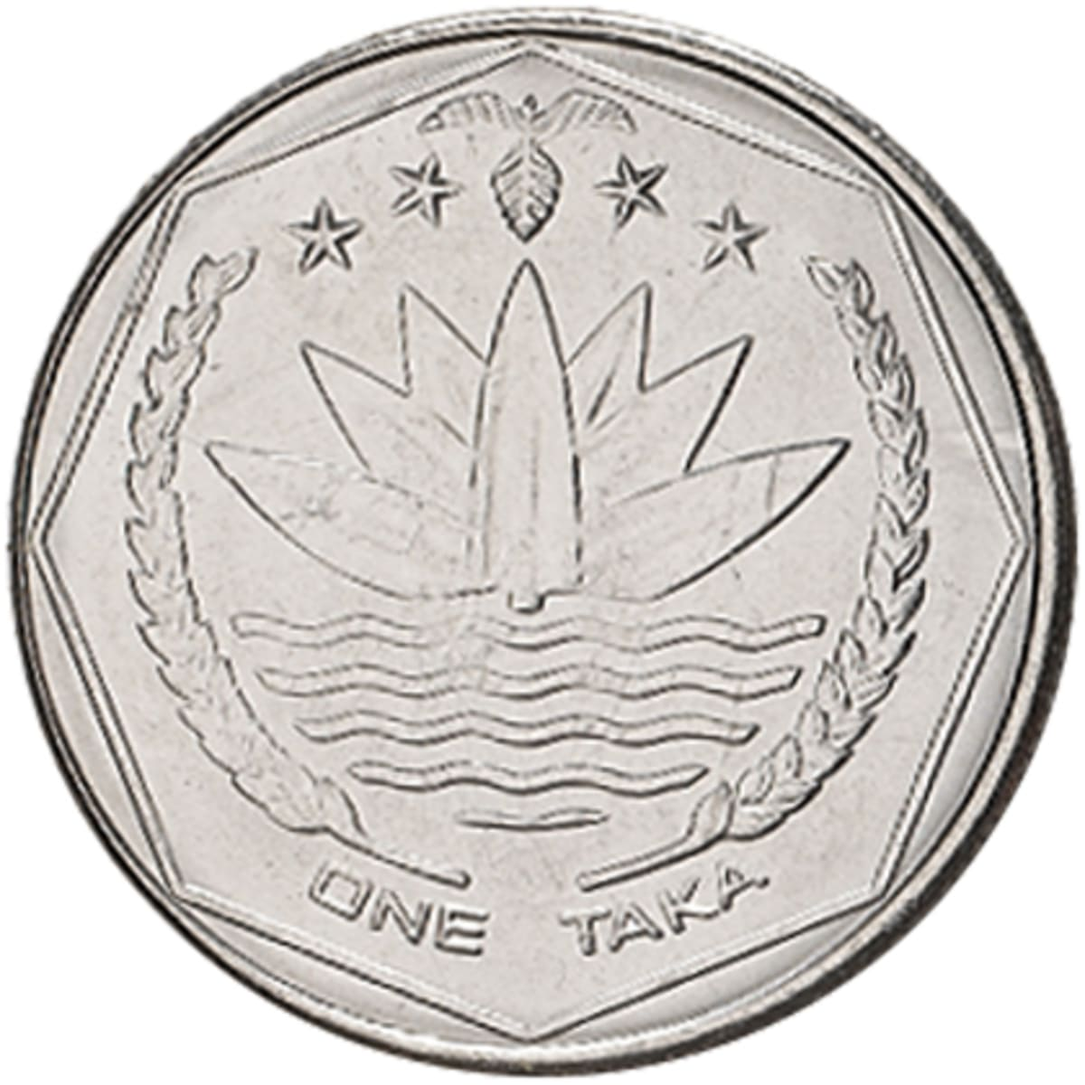2 taka coin: (12, 8, 1078, 1072)
